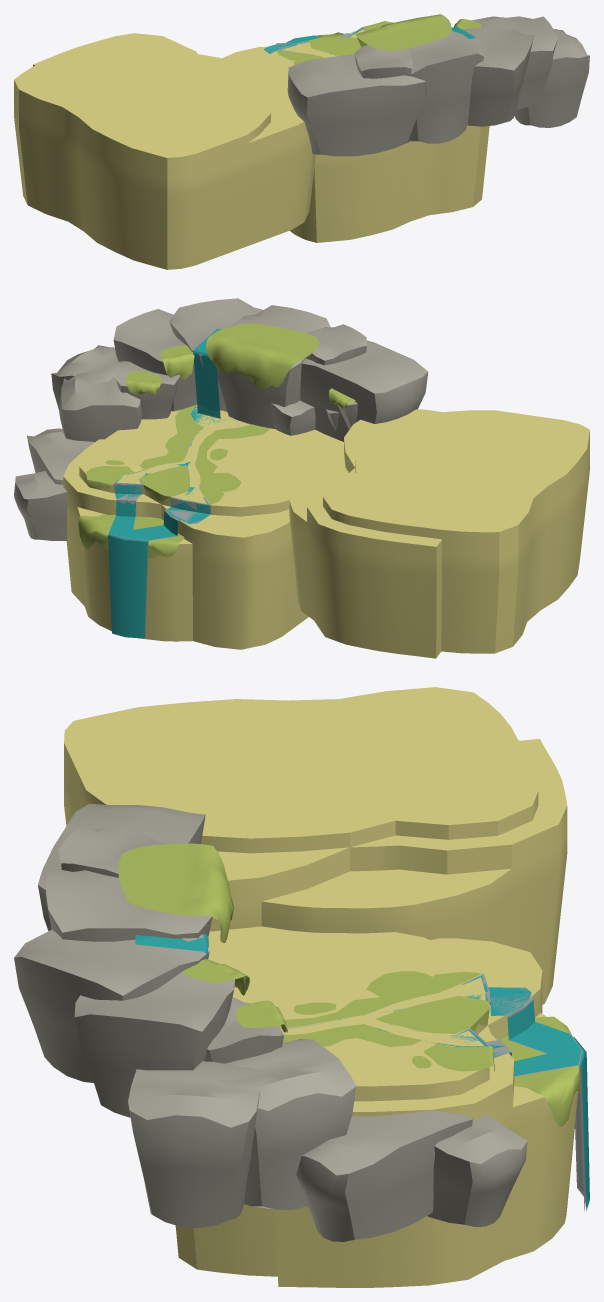
Rendered from MSH_env_testenvironment.fbx.
3 renders of one model, top to bottom at view 1: azimuth 30°, elevation 25°; view 2: azimuth 150°, elevation 25°; view 3: azimuth 270°, elevation 25°, orthographic. The views are drawn at different scales.
Parts seen in each view (by area): view 1: umgebung2, Felsen2; view 2: umgebung2, Felsen2; view 3: umgebung2, Felsen2.
Boxes of the visible parts, x1,y1,x2,y2 form: umgebung2: (14, 21, 489, 269); Felsen2: (287, 14, 589, 156); umgebung2: (63, 328, 589, 658); Felsen2: (14, 298, 428, 540); umgebung2: (64, 687, 589, 1287); Felsen2: (14, 803, 527, 1241).
Size of the model in its own units: 473 by 178 by 286.
